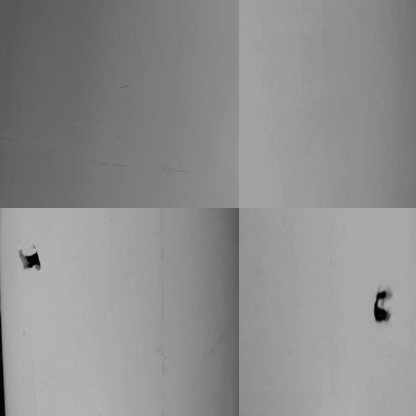kongdong: (369, 289, 397, 328), (15, 249, 45, 270)
